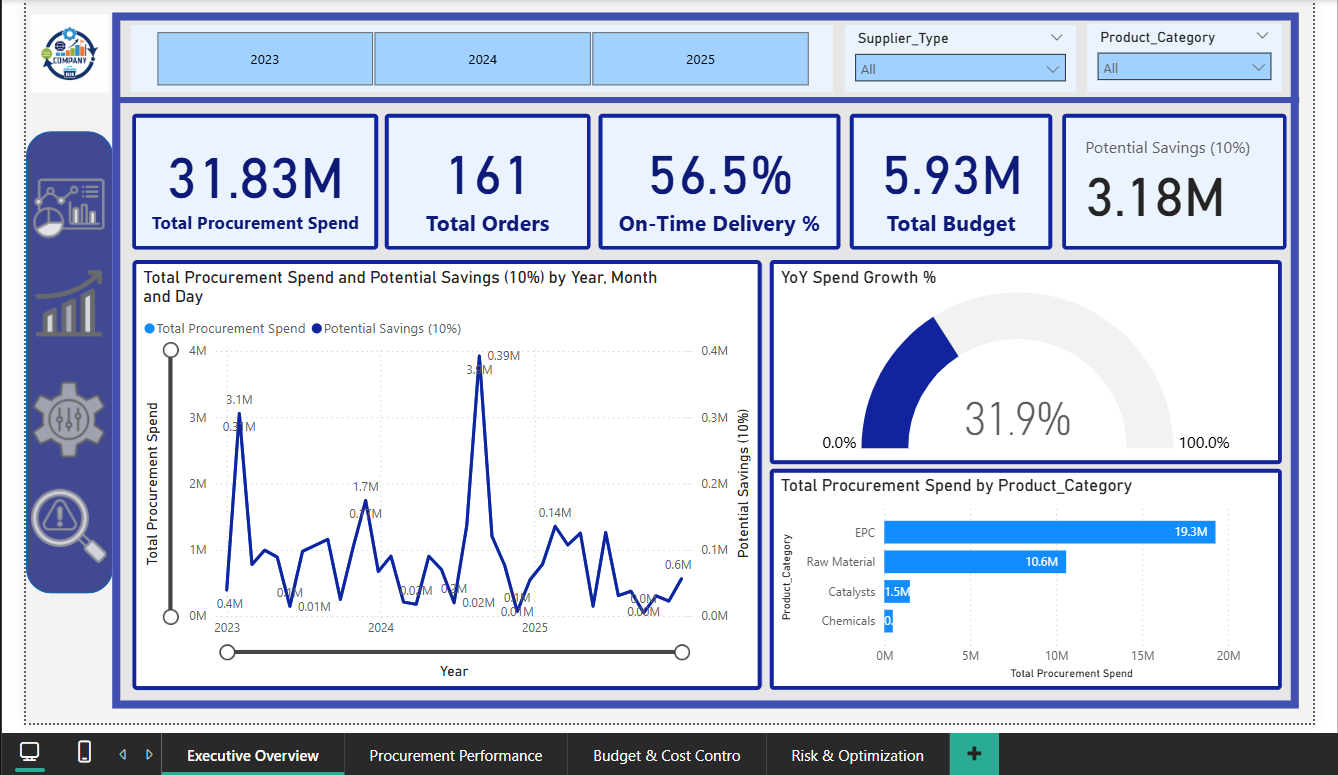

What the dashboard file says about the page in this screenshot:
{"tool":"powerbi","page":{"name":"Executive Overview","canvas":[1280,720],"ordinal":0},"visuals":[{"type":"shape","box":[0,130,86.7,460],"z":0},{"type":"shape","box":[86.4,13,1180.8,692.6],"z":1000},{"type":"shape","box":[86.7,91.7,1180,15],"z":2000},{"type":"slicer","fields":{"Values":["Date.Year"]},"box":[105,25,698.3,66.7],"z":3000},{"type":"slicer","fields":{"Values":["Products.Product_Category"]},"box":[1056.7,23.3,193.3,68.3],"z":4000},{"type":"slicer","fields":{"Values":["Suppliers.Supplier_Type"]},"box":[815,25,230,66.7],"z":5000},{"type":"image","box":[0,7.5,87.1,92.1],"z":6000},{"type":"actionButton","box":[0,165.9,86.6,83.7],"z":7000},{"type":"actionButton","box":[0,259.7,86.6,83.7],"z":8000},{"type":"actionButton","box":[0,375.1,86.6,83.7],"z":9000},{"type":"actionButton","box":[0,481.9,86.6,83.7],"z":10000},{"type":"card","fields":{"Values":["Table measure.Total Orders"]},"box":[357.1,113.8,204.5,135.4],"z":11000},{"type":"card","fields":{"Values":["Table measure.Total Procurement Spend"]},"box":[105.1,113.8,244.8,135.4],"z":12000},{"type":"card","fields":{"Values":["Table measure.On-Time Delivery %"]},"box":[570.2,113.8,240.5,135.4],"z":13000},{"type":"card","fields":{"Values":["Table measure.Total Budget"]},"box":[819.4,113.8,201.6,135.4],"z":14000},{"type":"lineChart","fields":{"Category":["Date.Date.Variation.Date Hierarchy.Year","Date.Date.Variation.Date Hierarchy.Month","Date.Date.Variation.Date Hierarchy.Day"],"Y":["Table measure.Total Procurement Spend"],"Y2":["Table measure.Potential Savings (10%)"]},"box":[105.1,259.2,626.4,427.7],"z":15000},{"type":"clusteredBarChart","fields":{"Category":["Products.Product_Category"],"Y":["Table measure.Total Procurement Spend"]},"box":[740.2,466.6,509.8,220.3],"z":16000},{"type":"cardVisual","fields":{"Data":["Table measure.Potential Savings (10%)"]},"box":[1031,113.8,223.2,135.4],"z":17000},{"type":"gauge","fields":{"Y":["Table measure.YoY Spend Growth %"]},"box":[740.2,259.2,509.8,203],"z":19000}]}

Visuals, with their boxes in screenshot pixels (x1, y1, x2, y2):
shape: rect(31, 129, 118, 587)
shape: rect(117, 13, 1291, 702)
shape: rect(118, 91, 1291, 106)
slicer - Date.Year: rect(136, 25, 830, 91)
slicer - Products.Product_Category: rect(1082, 23, 1274, 91)
slicer - Suppliers.Supplier_Type: rect(842, 25, 1070, 91)
image: rect(31, 7, 118, 99)
actionButton: rect(31, 165, 117, 248)
actionButton: rect(31, 258, 117, 341)
actionButton: rect(31, 373, 117, 456)
actionButton: rect(31, 479, 117, 562)
card - Table measure.Total Orders: rect(386, 113, 590, 248)
card - Table measure.Total Procurement Spend: rect(136, 113, 379, 248)
card - Table measure.On-Time Delivery %: rect(598, 113, 837, 248)
card - Table measure.Total Budget: rect(846, 113, 1047, 248)
lineChart - Date.Date.Variation.Date Hierarchy.Year x Date.Date.Variation.Date Hierarchy.Month: rect(136, 258, 759, 683)
clusteredBarChart - Products.Product_Category x Table measure.Total Procurement Spend: rect(767, 464, 1274, 683)
cardVisual - Table measure.Potential Savings (10%): rect(1057, 113, 1278, 248)
gauge - Table measure.YoY Spend Growth %: rect(767, 258, 1274, 460)
